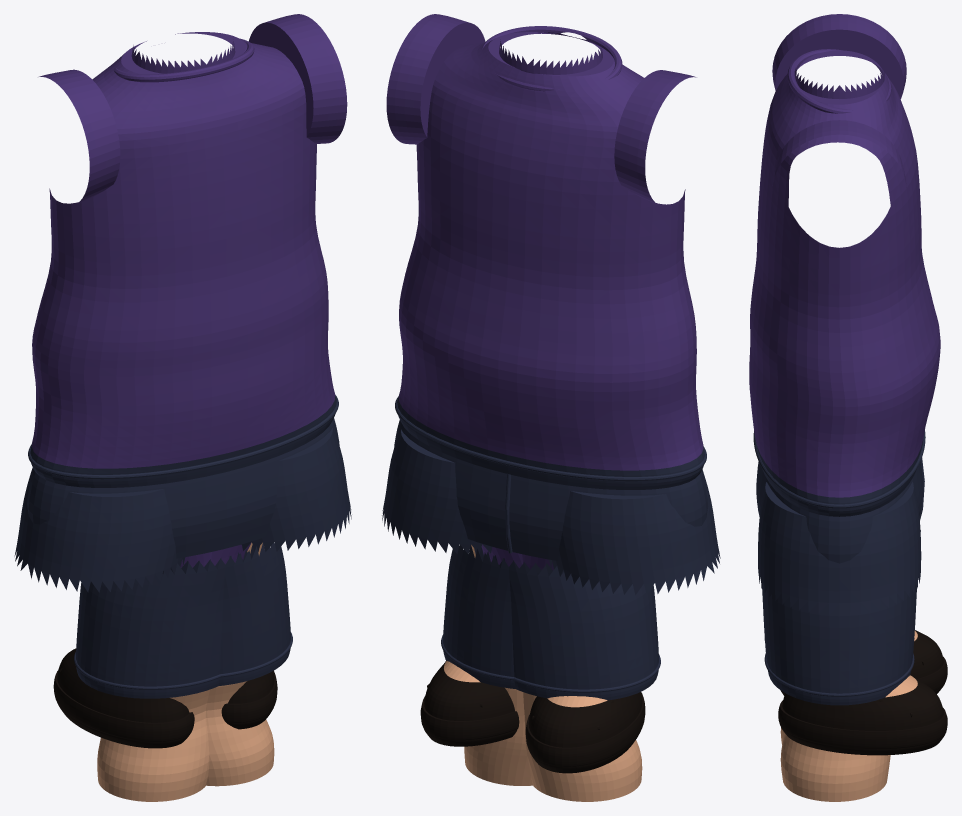
Rendered from protagonista.glb.
The picture shows the model from 3 angles, left to right: view 1: azimuth 30°, elevation 25°; view 2: azimuth 150°, elevation 25°; view 3: azimuth 270°, elevation 25°; orthographic projection. The views are drawn at different scales.
Visible parts, largest first — view 1: torso, hips, thighL, thighR, shinL, shinR; view 2: torso, hips, thighL, thighR, shinL, shinR; view 3: torso, hips, thighR, shinR, shinL.
Part boxes in pixels (box(x1,y1,x2,y2)): torso: box(31, 14, 347, 468); hips: box(14, 395, 351, 592); thighL: box(74, 545, 259, 801); thighR: box(162, 542, 292, 786); shinL: box(53, 648, 194, 748); shinR: box(221, 542, 277, 729); torso: box(386, 14, 703, 470); hips: box(382, 396, 720, 595); thighL: box(474, 547, 660, 801); thighR: box(441, 545, 571, 785); shinL: box(525, 692, 645, 773); shinR: box(420, 545, 519, 746); torso: box(749, 14, 940, 497); hips: box(753, 430, 925, 614); thighR: box(762, 582, 916, 801); shinR: box(778, 675, 947, 755); shinL: box(780, 630, 947, 695).
Size of the model in its own units: 0.5278 by 1.17 by 0.3003.
